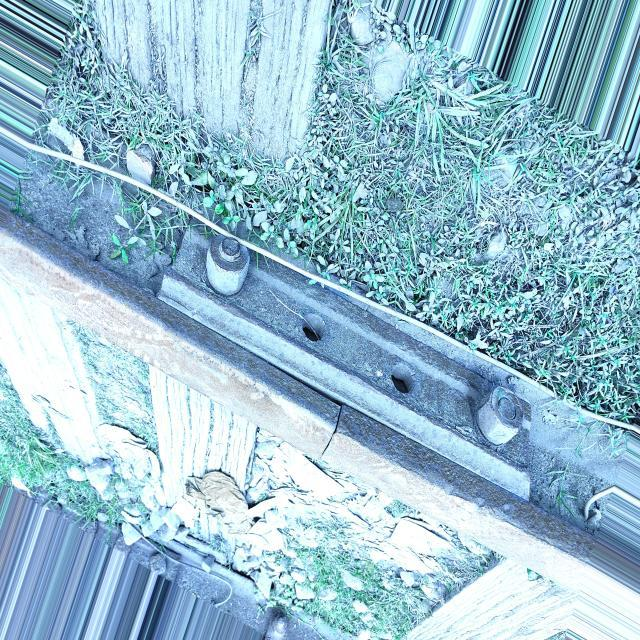Defective Joint: (157, 216, 536, 505)
